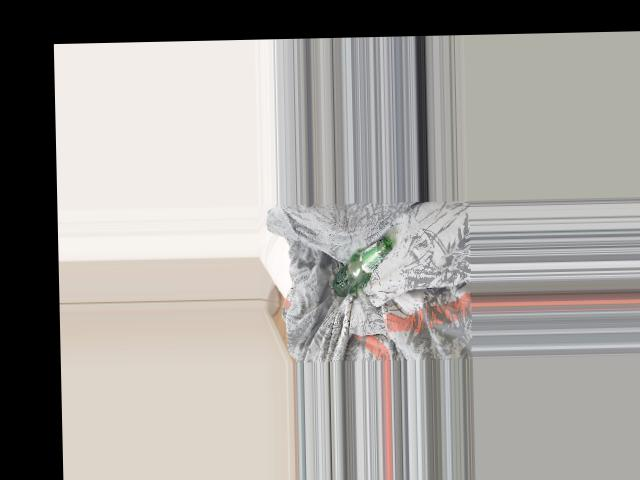beer: (332, 237, 394, 296)
